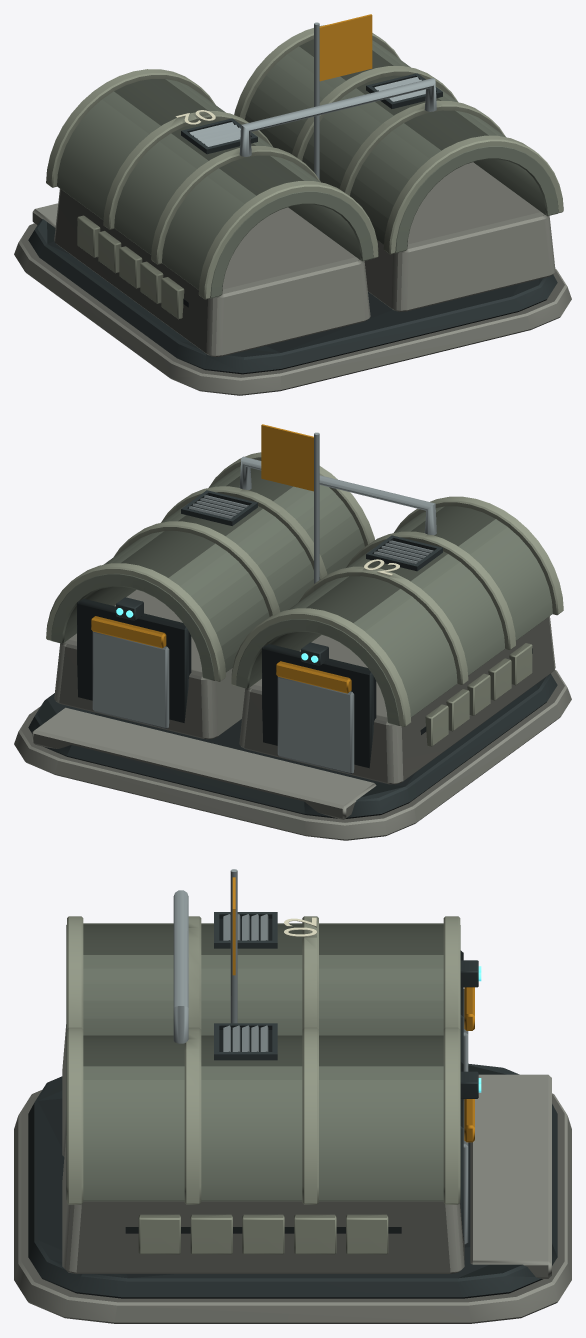
File: Barracks.glb
3 views of the same model, one above another, from view 1: azimuth 30°, elevation 25°; view 2: azimuth 150°, elevation 25°; view 3: azimuth 270°, elevation 25° (orthographic). The views are drawn at different scales.
Visible parts, largest first — view 1: export_Barracks_Footing; view 2: export_Barracks_Footing; view 3: export_Barracks_Footing.
Part boxes in pixels (box(x1,y1,x2,y2)): export_Barracks_Footing: box(14, 14, 571, 395); export_Barracks_Footing: box(14, 424, 571, 840); export_Barracks_Footing: box(14, 869, 571, 1323).
Size of the model in its own units: 4.74 by 3.15 by 4.74.
